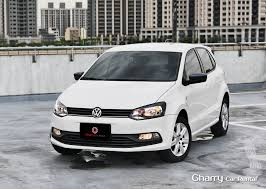car: (48, 41, 232, 163)
